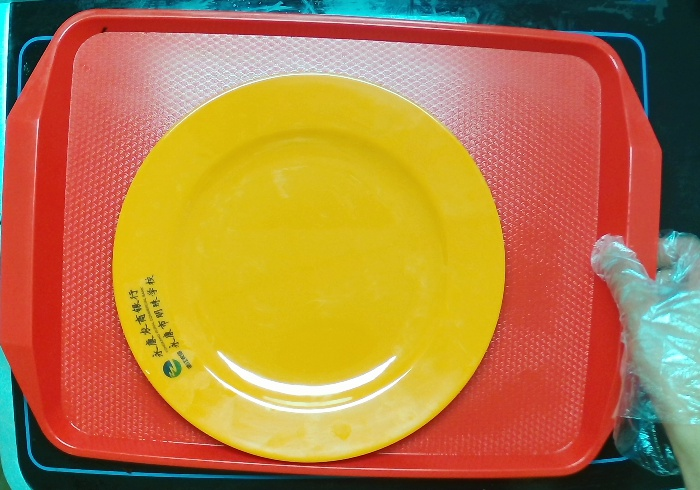YKMZ-Ju_Se_Mian_Pan: (112, 73, 508, 465)
